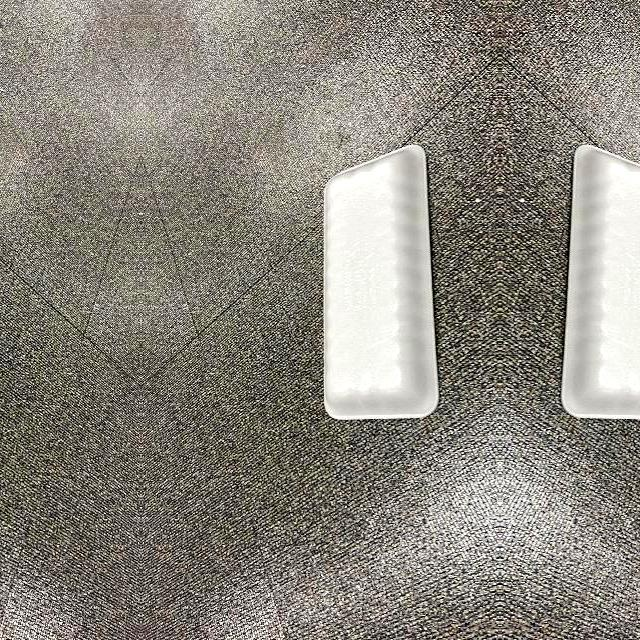Styrofoam: (319, 146, 441, 422), (323, 145, 439, 420), (557, 145, 640, 422), (559, 145, 640, 419)
